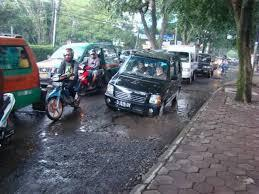Pothole: (104, 110, 190, 139)
